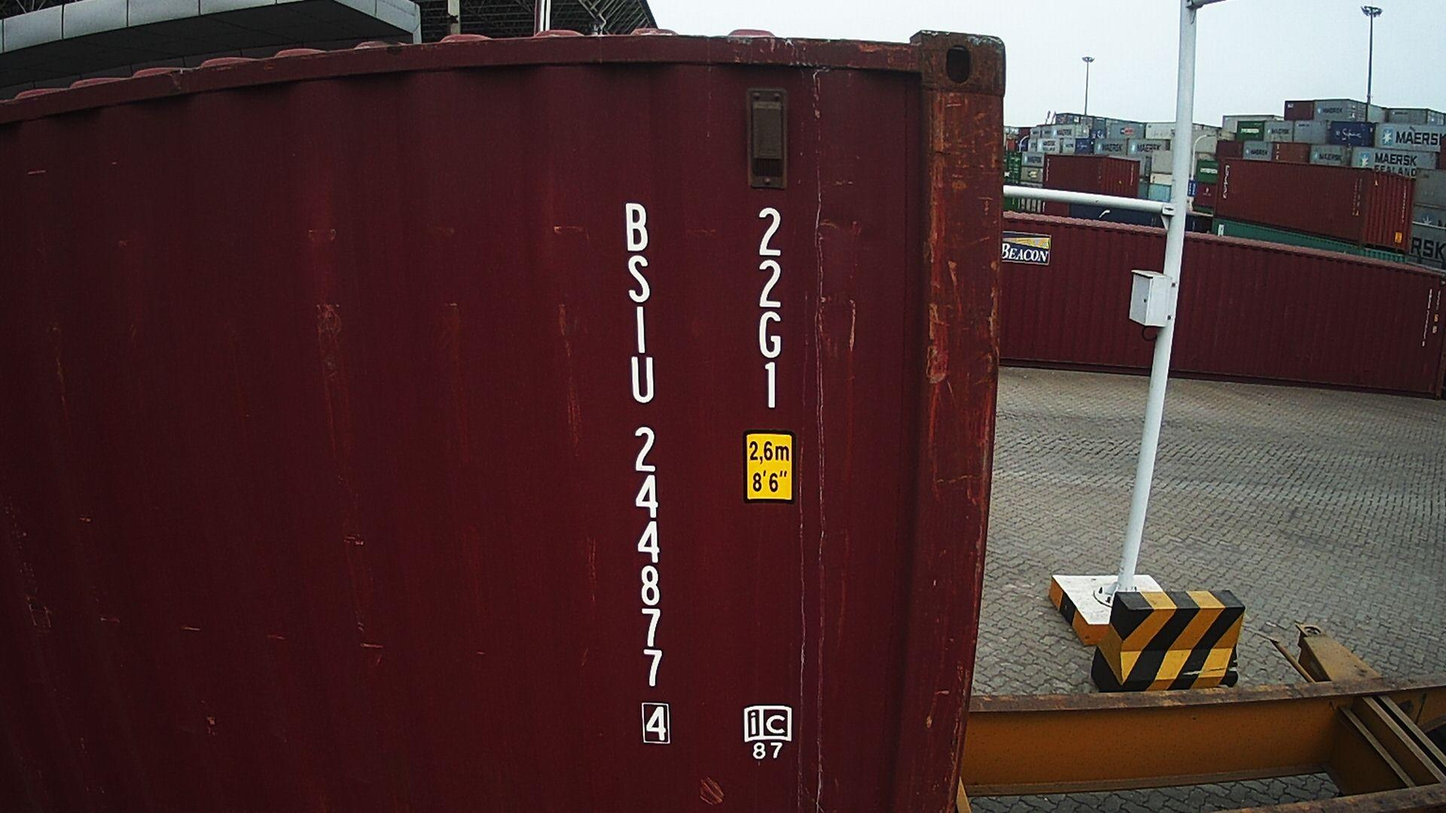container-numbers: (620, 199, 673, 749), (750, 201, 790, 413)
